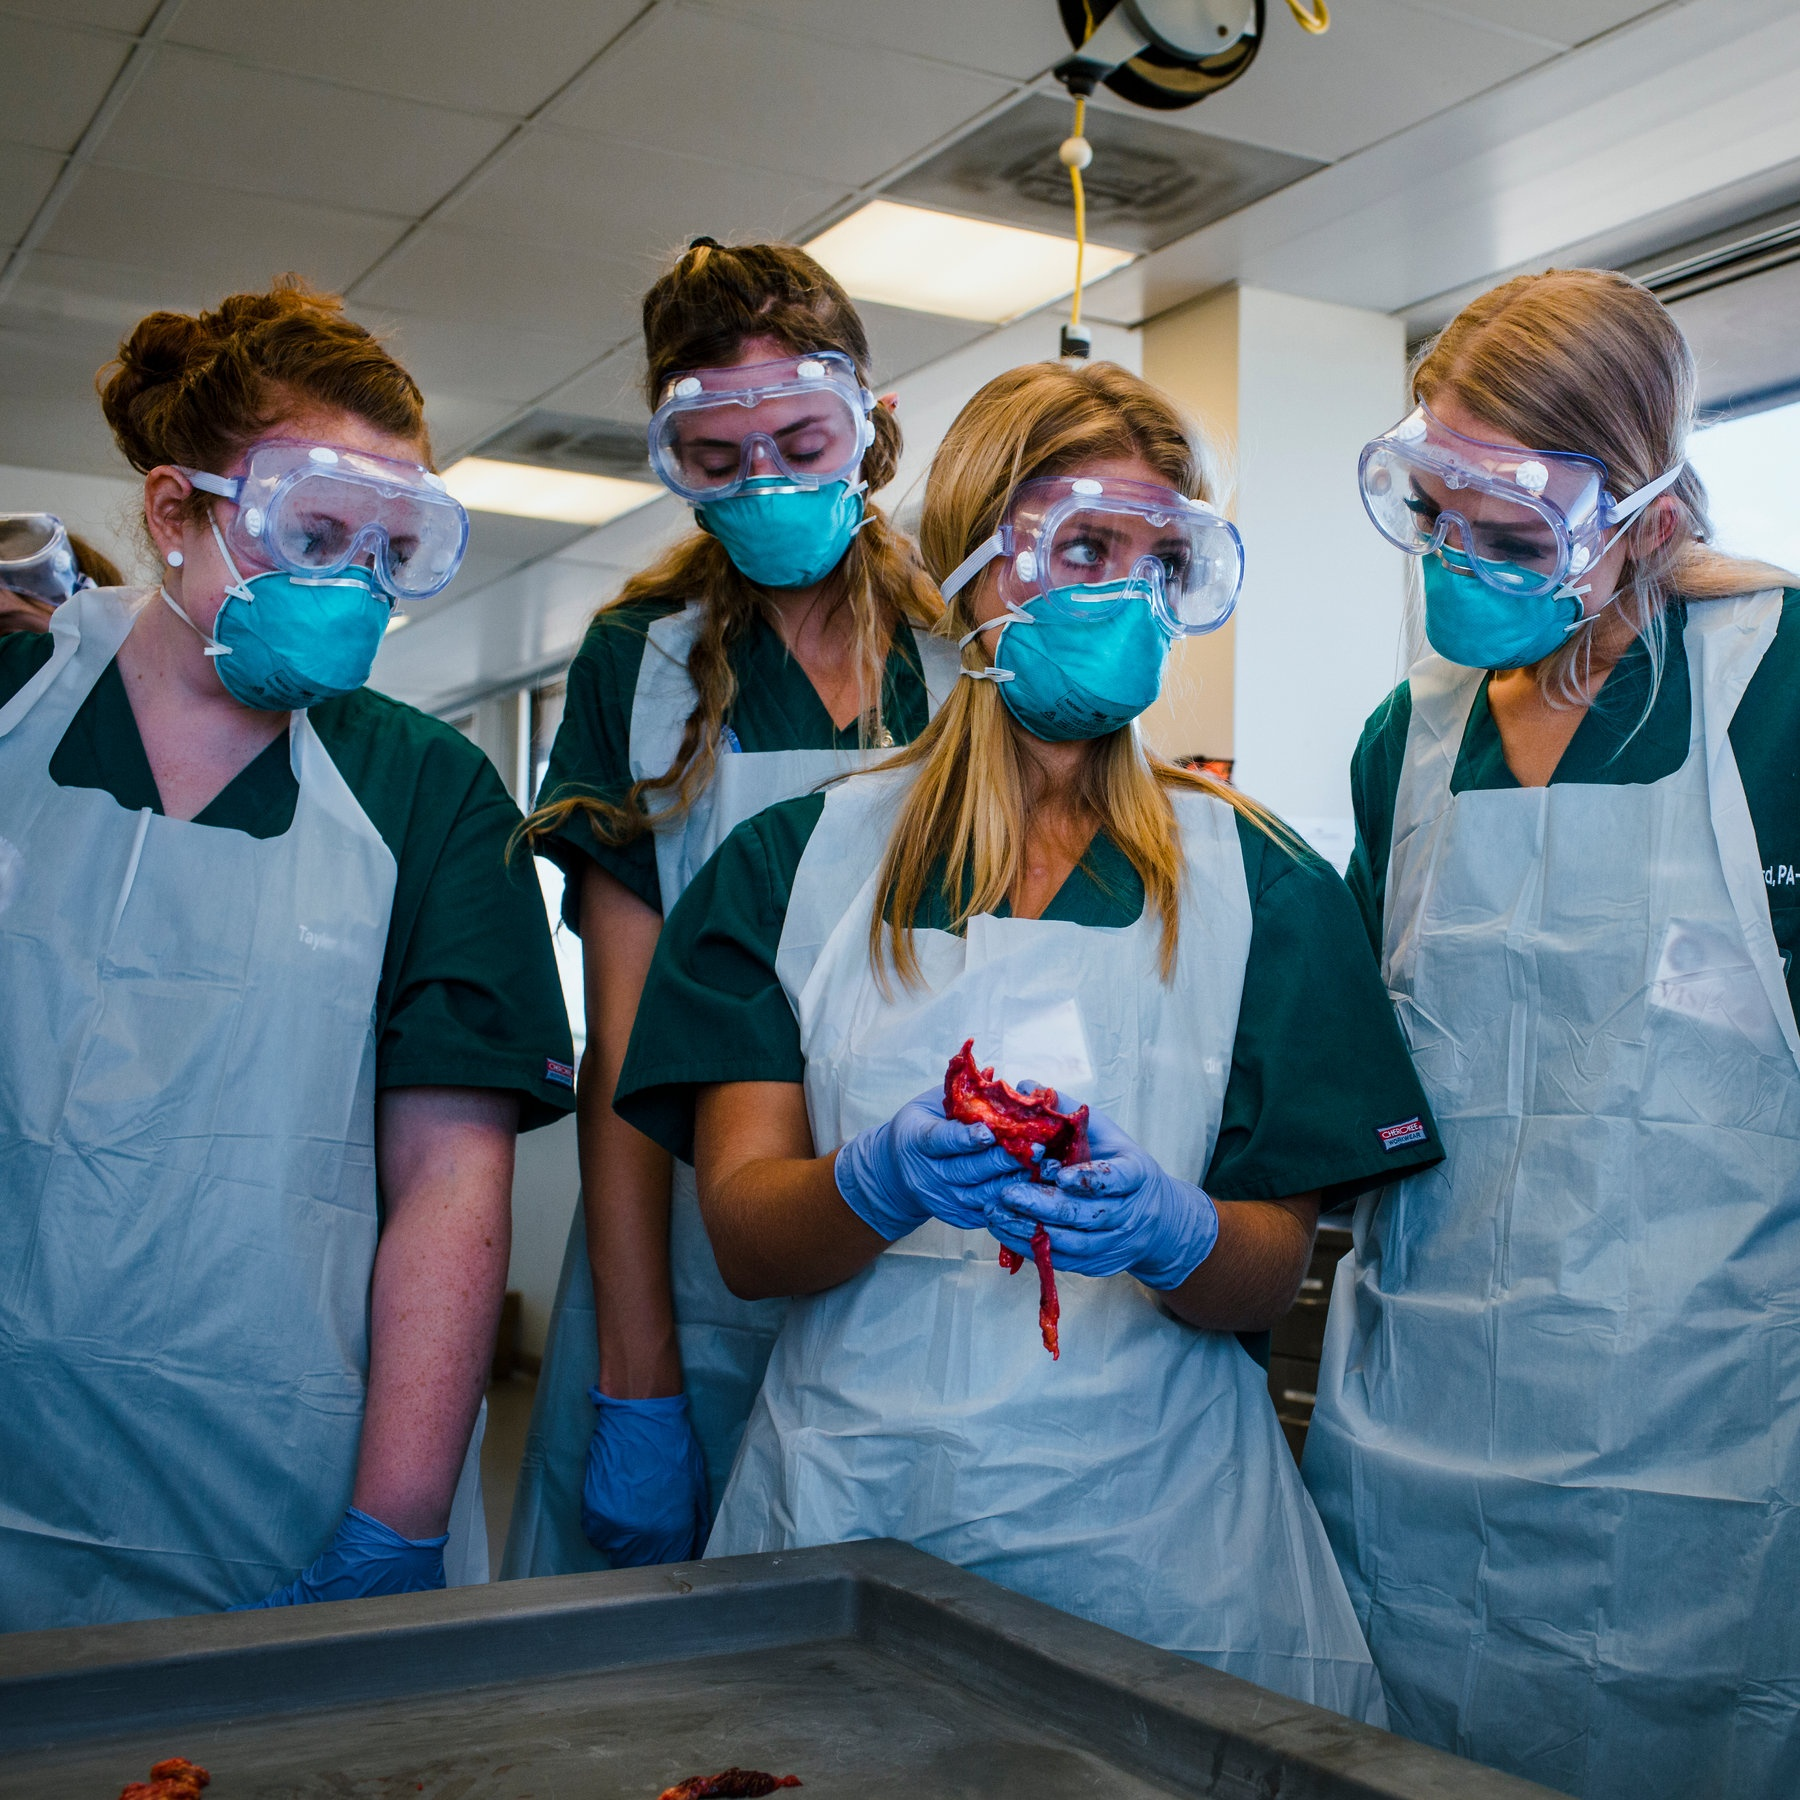with_mask: (133, 377, 465, 728), (1374, 384, 1703, 679), (940, 456, 1248, 754), (635, 341, 891, 596)
